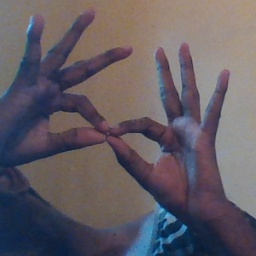B: (33, 62, 185, 195)
